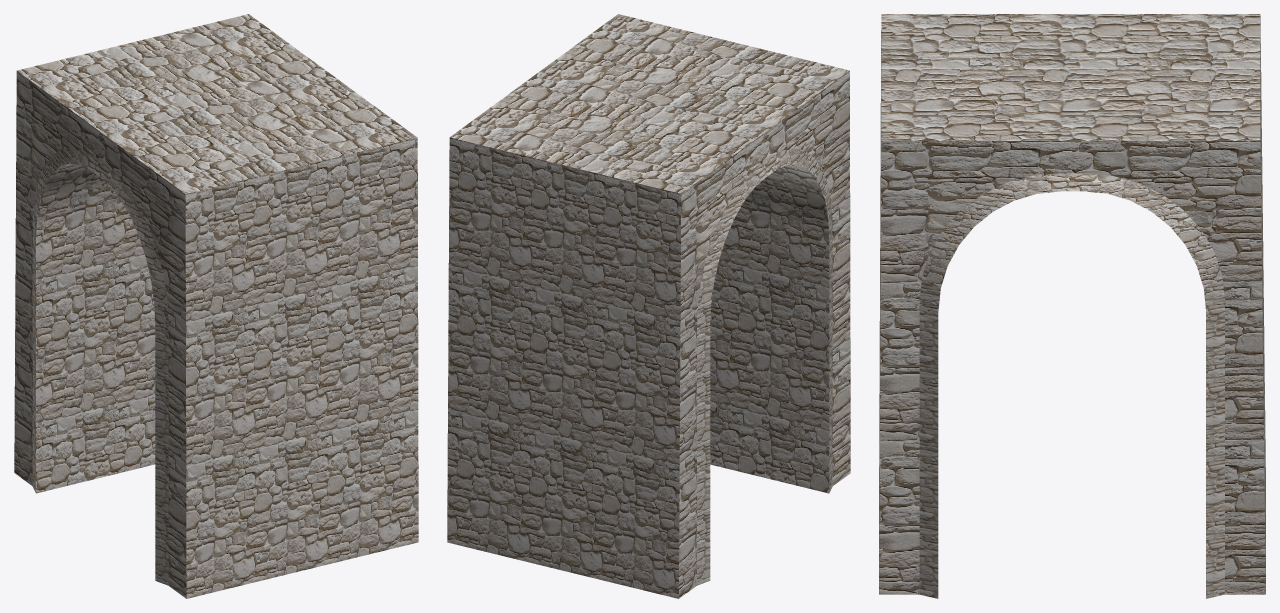
Rendered from hole_arch.fbx.
3 views of the same model, side by side, from view 1: azimuth 30°, elevation 25°; view 2: azimuth 150°, elevation 25°; view 3: azimuth 270°, elevation 25° (orthographic). The views are drawn at different scales.
Parts seen in each view (by area): view 1: Cube.015; view 2: Cube.015; view 3: Cube.015.
Part boxes in pixels (x1,y1,x2,y2): Cube.015: [14, 14, 418, 598]; Cube.015: [447, 14, 850, 598]; Cube.015: [879, 14, 1265, 598].
Bounding box in the file's own units: 415 × 654 × 506.
Materials: 1 (1 with a texture image).
